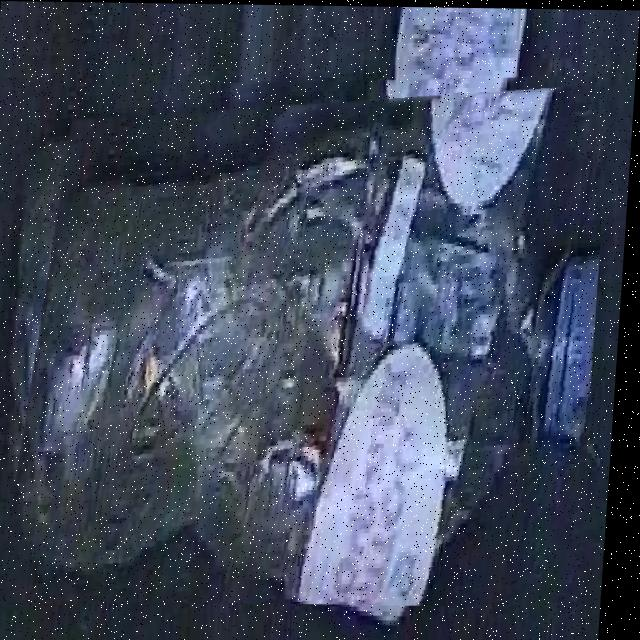plasticbottle: (1, 70, 611, 605)
